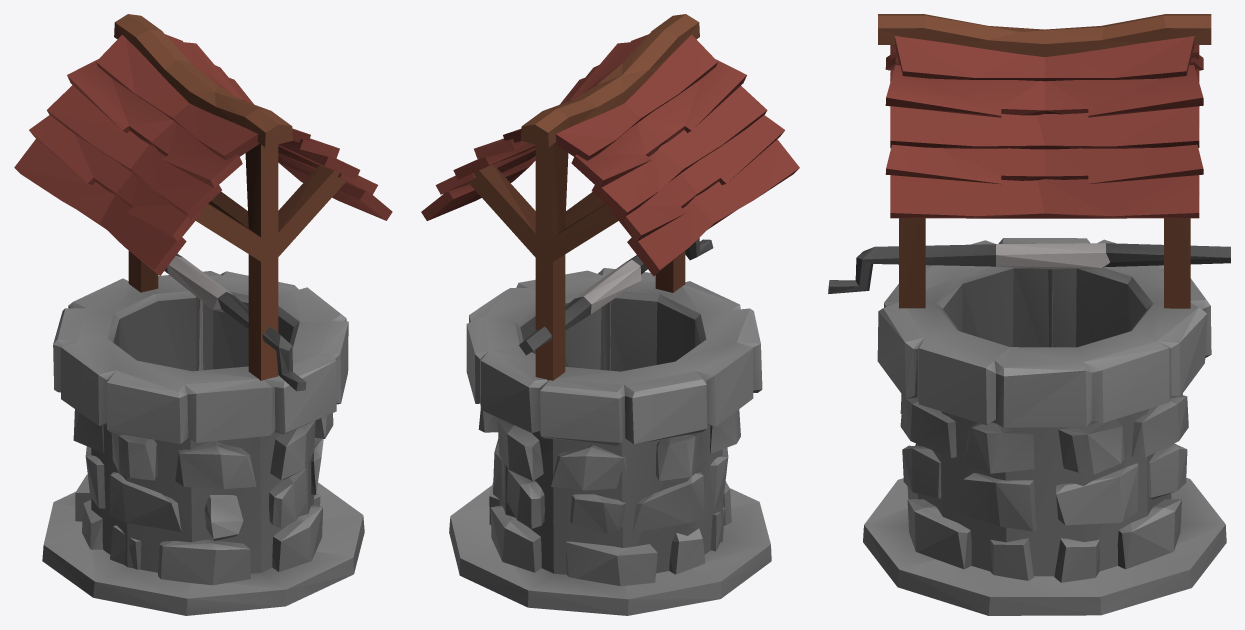
The model's file is farm-well.glb.
3 renders of one model, left to right at view 1: azimuth 30°, elevation 25°; view 2: azimuth 150°, elevation 25°; view 3: azimuth 270°, elevation 25°, orthographic. The views are drawn at different scales.
Parts seen in each view (by area): view 1: farm-well; view 2: farm-well; view 3: farm-well.
Boxes of the visible parts, x1,y1,x2,y2 form: farm-well: (14,14,392,615); farm-well: (421,14,799,615); farm-well: (828,14,1230,615).
Bounding box in the file's own units: 1.31 × 2.2 × 1.52.
